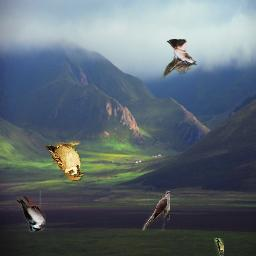Cuckoo: (142, 191, 170, 231)
Sparrow: (46, 141, 84, 181)
Swallow: (161, 39, 197, 79), (16, 196, 46, 232), (214, 238, 224, 256)
